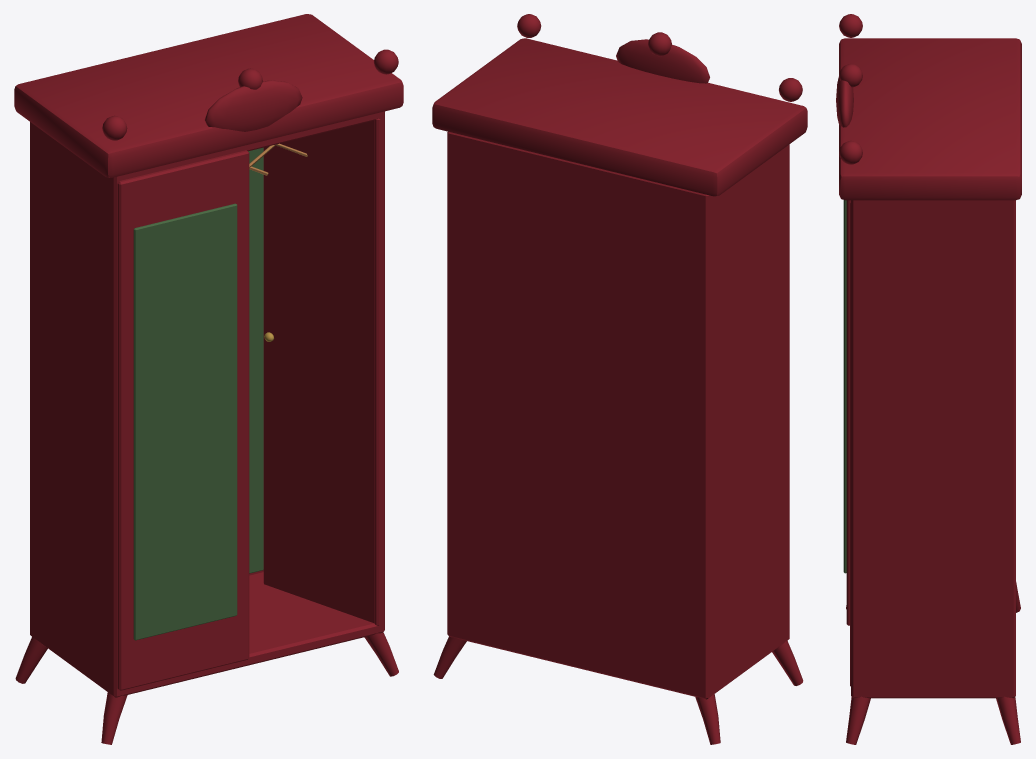
The model's file is PR_Wardrobe.fbx.
3 renders of one model, left to right at view 1: azimuth 30°, elevation 25°; view 2: azimuth 150°, elevation 25°; view 3: azimuth 270°, elevation 25°, orthographic. The views are drawn at different scales.
Parts seen in each view (by area): view 1: PR_Wardrobe_Wardrobe, DoorR_Wardrobe, PR_Wardrobe_WardrobeIn; view 2: PR_Wardrobe_Wardrobe; view 3: PR_Wardrobe_Wardrobe, PR_Wardrobe_WardrobeIn, DoorR_Wardrobe.
Part boxes in pixels (x1=…): PR_Wardrobe_Wardrobe: x1=14, y1=14, x2=403, y2=744; DoorR_Wardrobe: x1=263, y1=118, x2=380, y2=625; PR_Wardrobe_WardrobeIn: x1=133, y1=147, x2=263, y2=640; PR_Wardrobe_Wardrobe: x1=432, y1=14, x2=807, y2=744; PR_Wardrobe_Wardrobe: x1=836, y1=14, x2=1021, y2=744; PR_Wardrobe_WardrobeIn: x1=843, y1=200, x2=846, y2=573; DoorR_Wardrobe: x1=850, y1=202, x2=850, y2=686.
Bounding box in the file's own units: 1.1 × 2.26 × 0.62.
